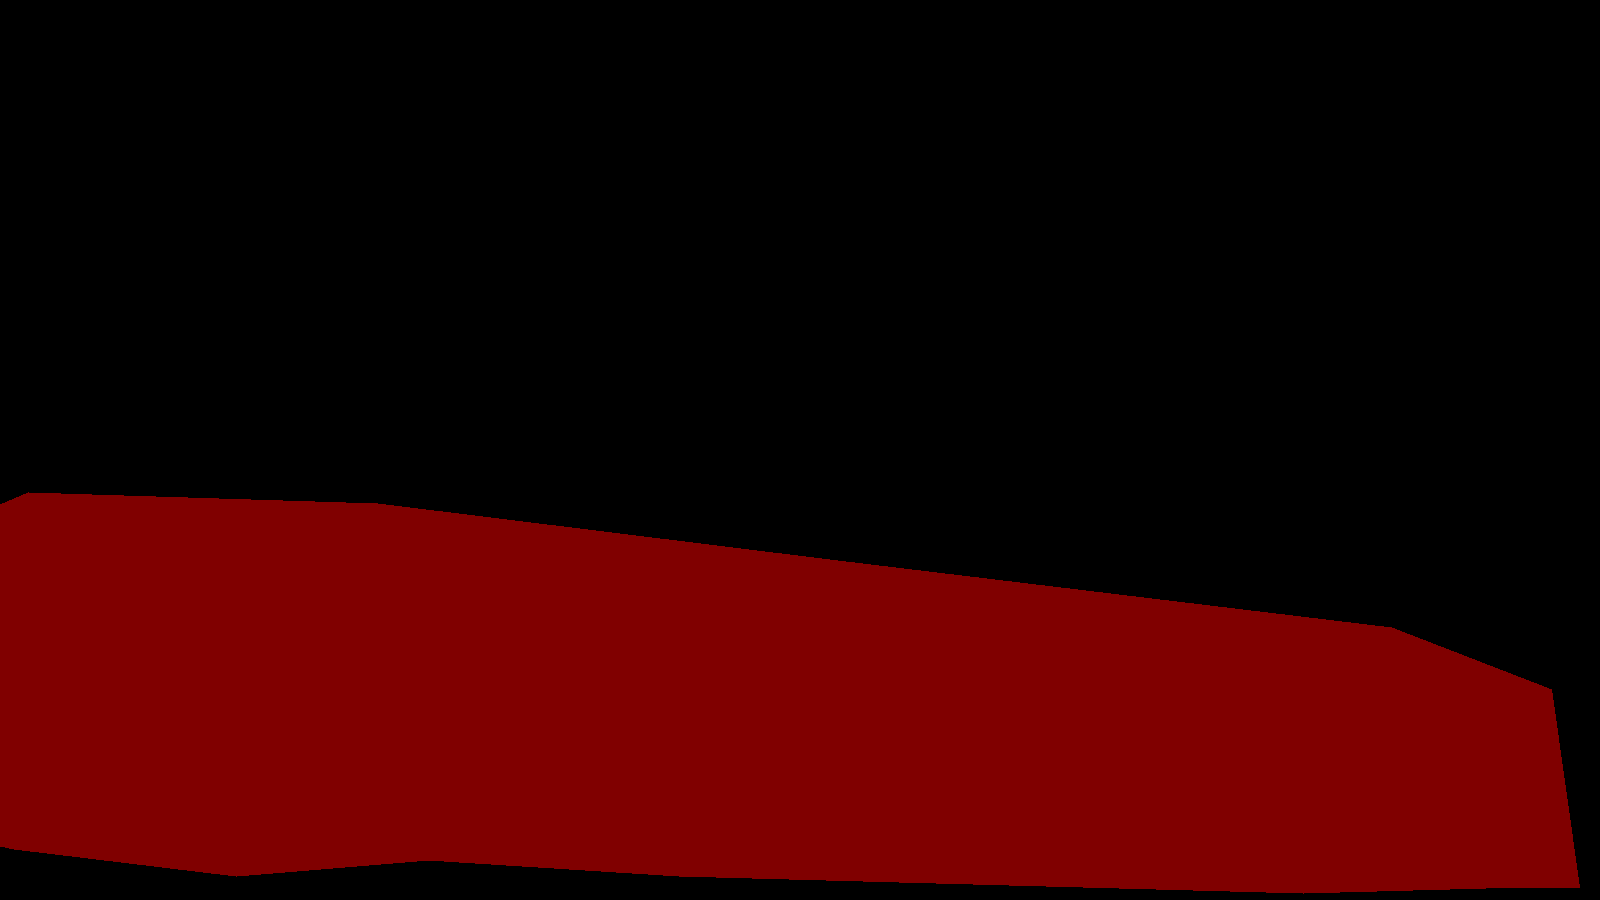fire: (0, 492, 1579, 893)
